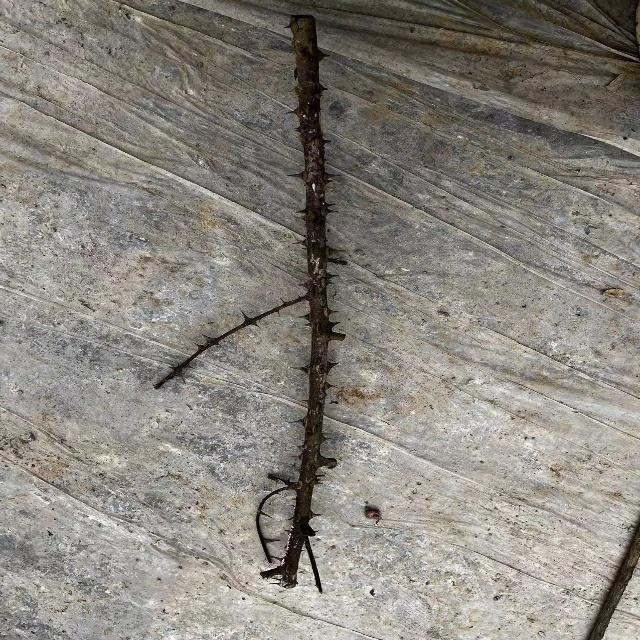branch: (262, 16, 335, 589)
